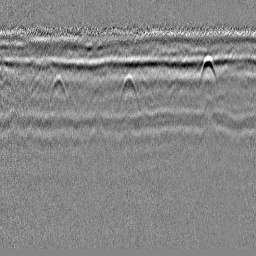cavity: (117, 73, 140, 112)
